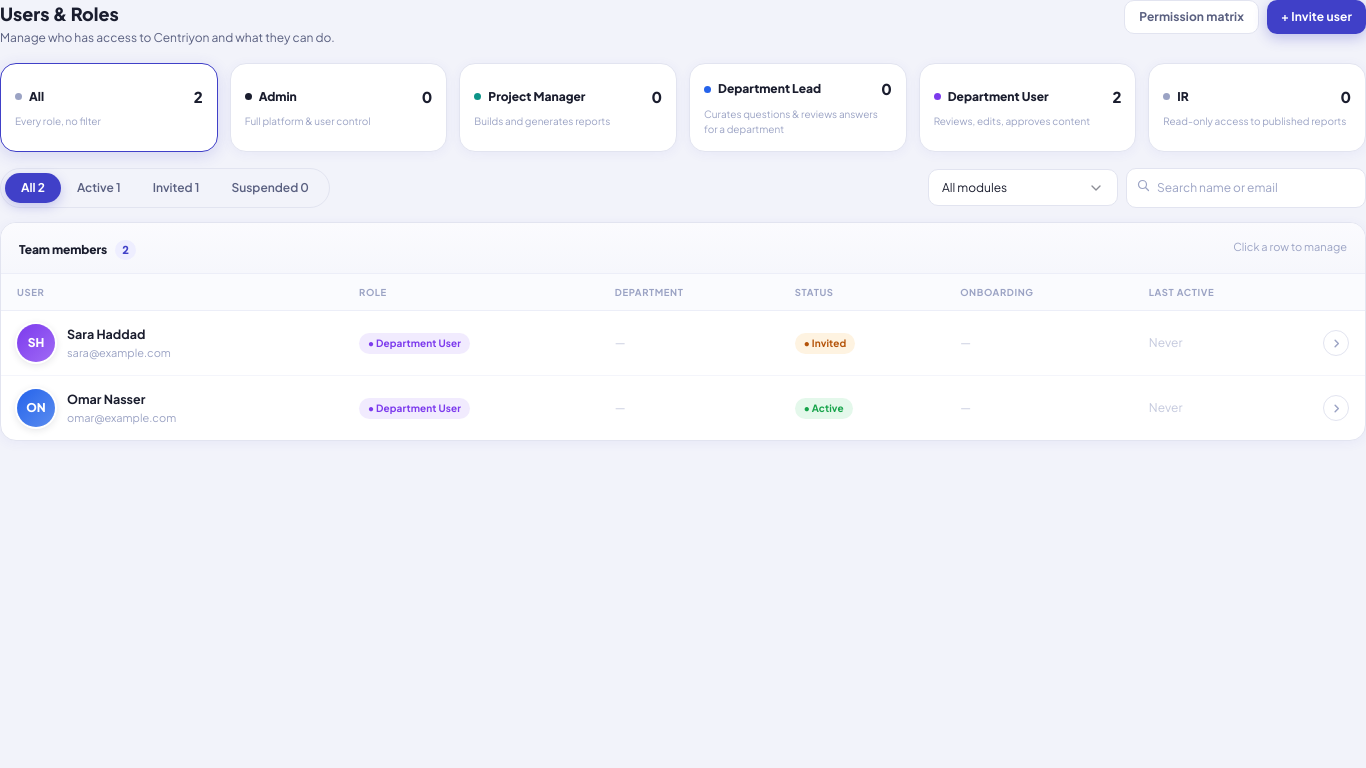
temp password controls › relays the backend's reason when the row has gone stale
Click the text "Sara Haddad". click: (106,334)
box: [67,326,145,342]
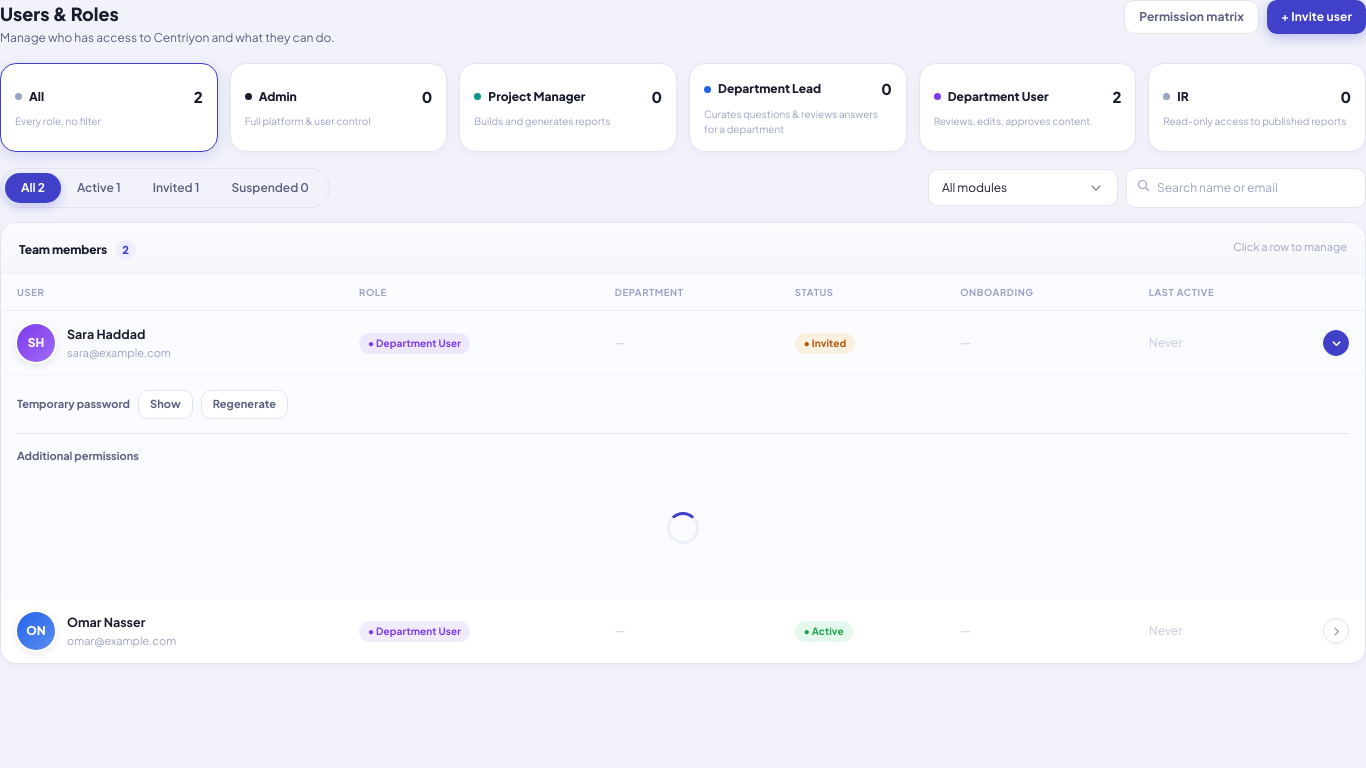
Click the button "Show". click: (165,404)
box: [138,390,193,418]
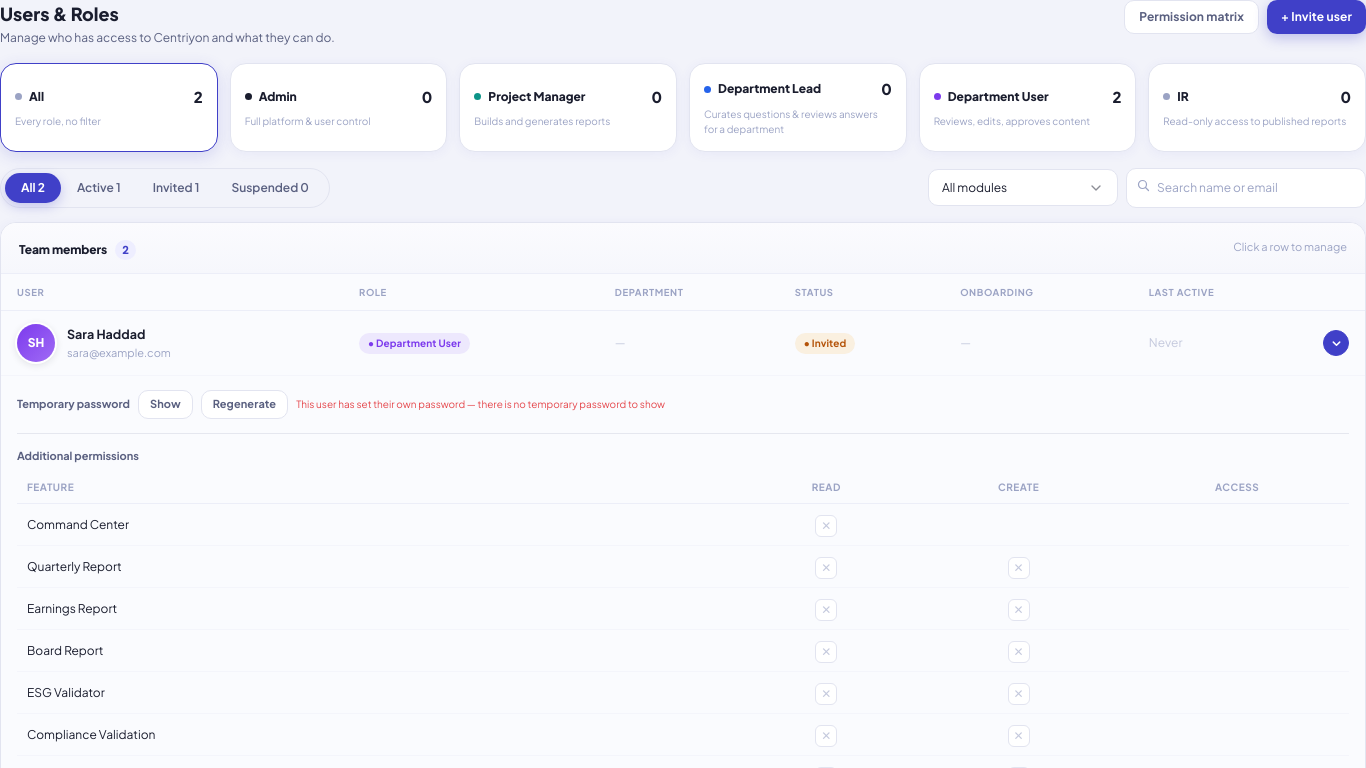
Check: the text "This user has set their own password — there is no temporary password to show" is shown, box [296,397,665,412]
